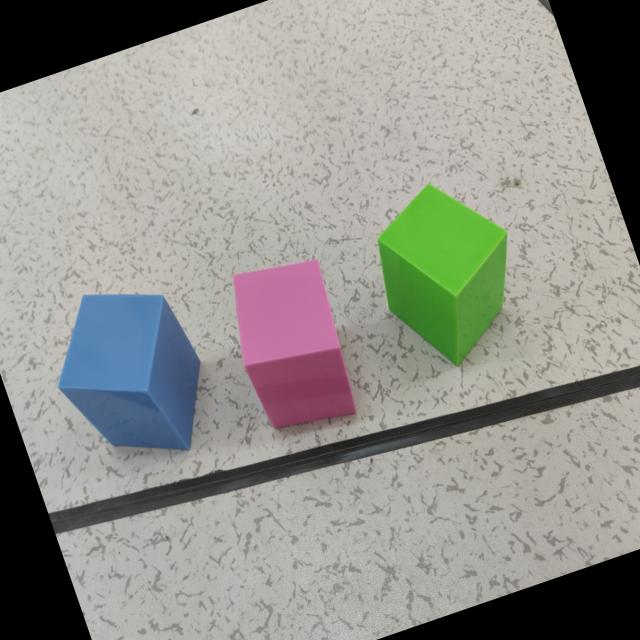blue: (58, 294, 202, 453)
green: (377, 184, 507, 367)
pink: (232, 259, 357, 432)
